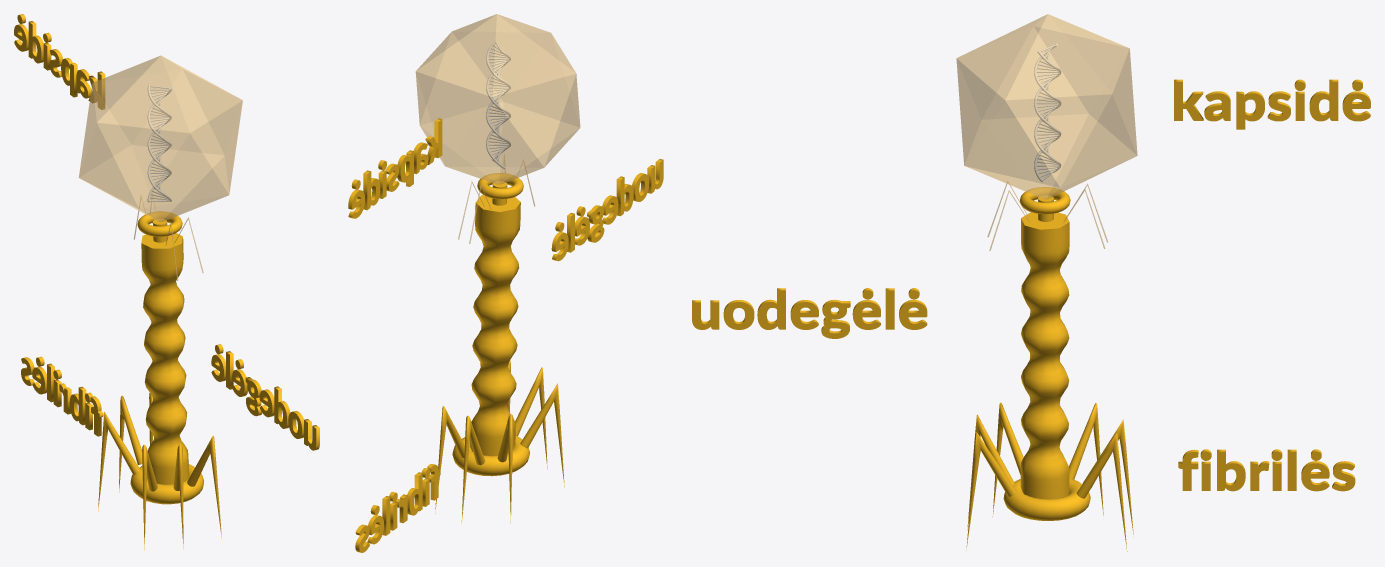
Rendered from bacteriophage.glb.
The picture shows the model from 3 angles, left to right: view 1: azimuth 30°, elevation 25°; view 2: azimuth 150°, elevation 25°; view 3: azimuth 270°, elevation 25°; orthographic projection. The views are drawn at different scales.
Parts seen in each view (by area): view 1: bacteriophage.001, bacteriophage.002, Text, bacteriophage, dnr; view 2: bacteriophage.001, bacteriophage.002, Text, bacteriophage, dnr; view 3: bacteriophage.001, bacteriophage.002, Text, bacteriophage, dnr.
Part boxes in pixels (x1,y1,x2,y2): bacteriophage.001: [79, 55, 242, 221]; bacteriophage.002: [130, 211, 203, 504]; Text: [14, 14, 319, 450]; bacteriophage: [98, 393, 222, 550]; dnr: [147, 85, 171, 202]; bacteriophage.001: [415, 14, 580, 184]; bacteriophage.002: [452, 173, 529, 476]; Text: [348, 118, 663, 552]; bacteriophage: [435, 360, 564, 523]; dnr: [486, 41, 510, 168]; bacteriophage.001: [956, 14, 1137, 199]; bacteriophage.002: [1003, 187, 1090, 520]; Text: [692, 79, 1370, 491]; bacteriophage: [966, 402, 1133, 551]; dnr: [1034, 43, 1061, 181].
Size of what is drawn, in the model's own units: 1.55 by 4.97 by 5.8.
